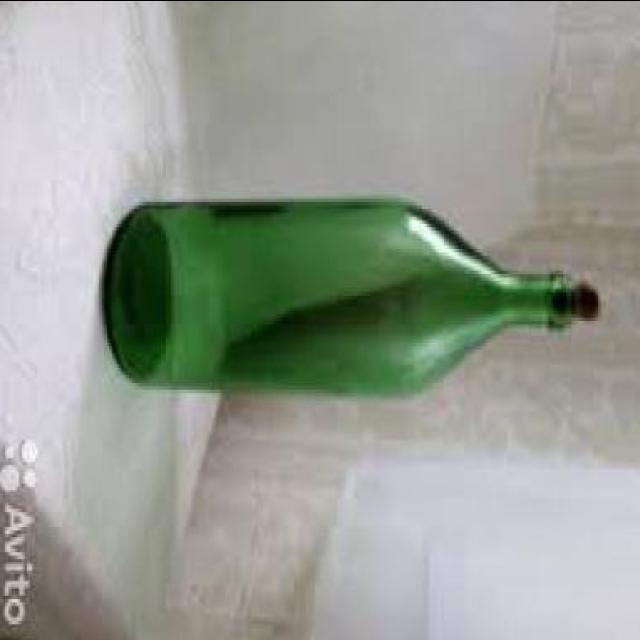kaca: (102, 198, 574, 392)
